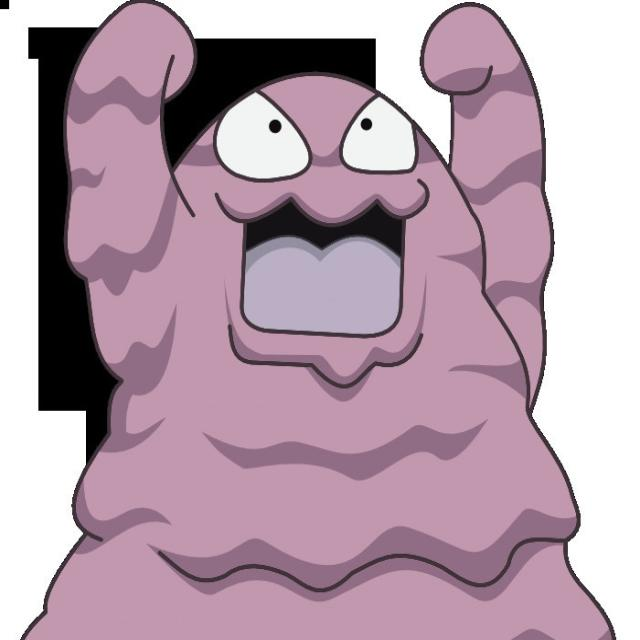Grimer: (81, 63, 541, 632)
